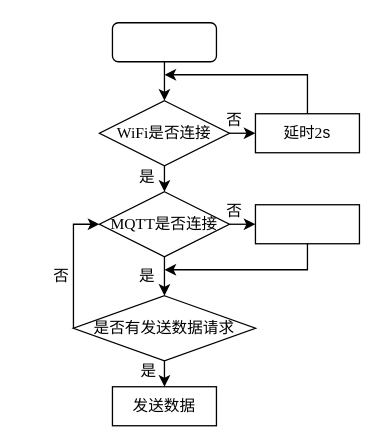
The diagram is 382 pixels wide and 448 high, and some of its shapes have lost their labels. Each missing label, with the box of its shape:
开始: (111, 21, 216, 62)
调用 MQTT 连接函数: (254, 203, 359, 244)
